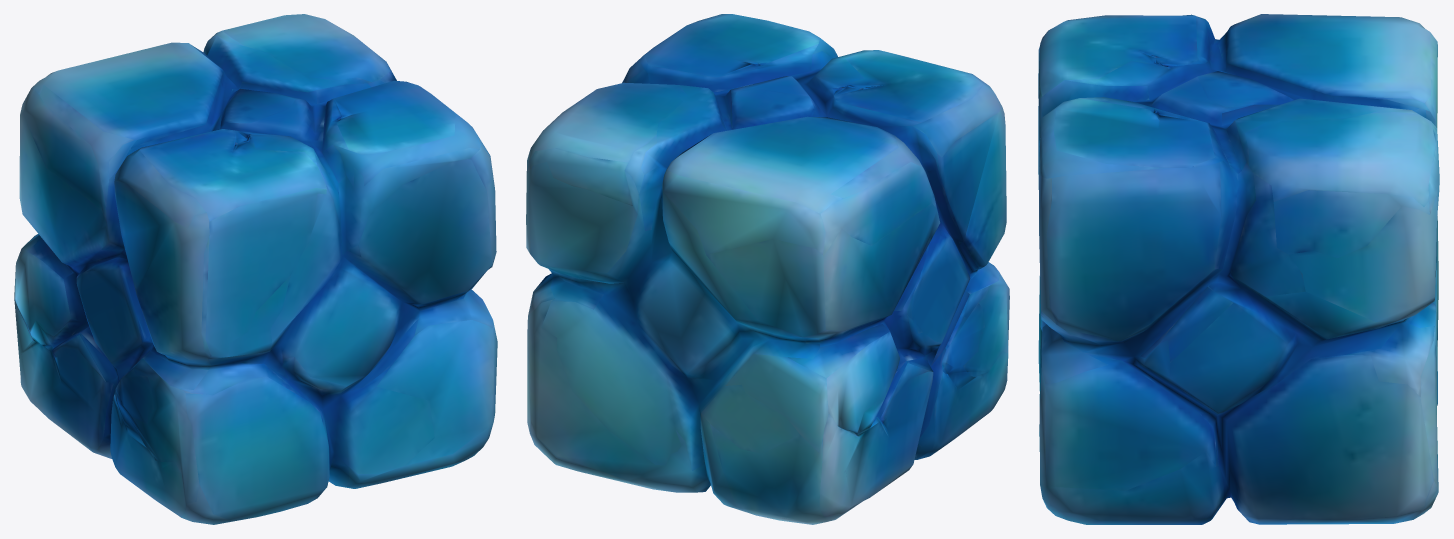
The picture shows the model from 3 angles, left to right: view 1: azimuth 30°, elevation 25°; view 2: azimuth 150°, elevation 25°; view 3: azimuth 270°, elevation 25°; orthographic projection. The views are drawn at different scales.
Visible parts, largest first — view 1: material; view 2: material; view 3: material.
Boxes of the visible parts, x1,y1,x2,y2 form: material: [14, 14, 497, 524]; material: [526, 14, 1009, 524]; material: [1038, 14, 1439, 524].
Size of the model in its own units: 1 by 0.9999 by 0.9985.
1 material, 1 textured.
